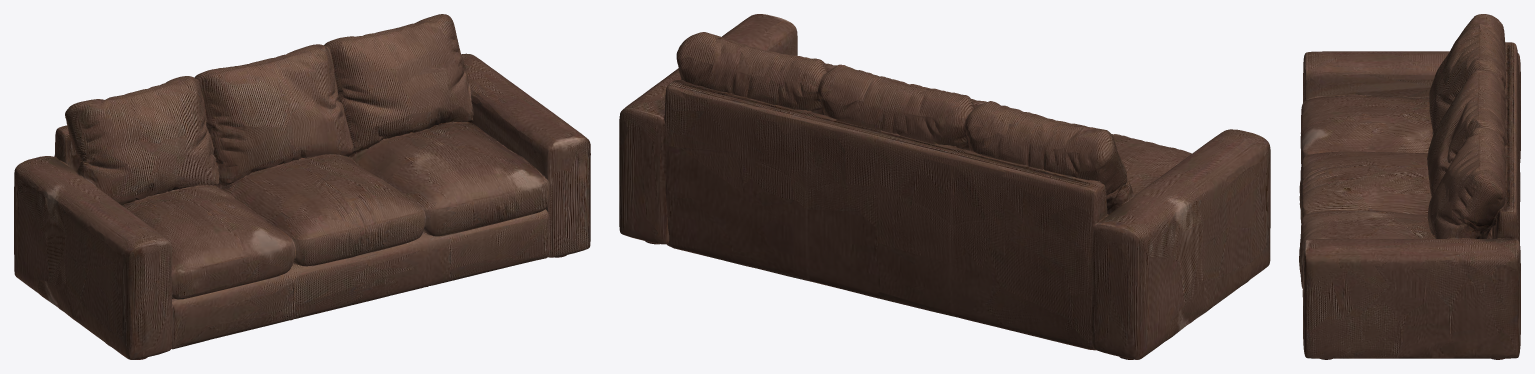
The model's file is dencouch.glb.
3 renders of one model, left to right at view 1: azimuth 30°, elevation 25°; view 2: azimuth 150°, elevation 25°; view 3: azimuth 270°, elevation 25°, orthographic. The views are drawn at different scales.
Size of the model in its own units: 1.9 by 0.7166 by 0.8545.
Materials: 1 (1 with a texture image).
